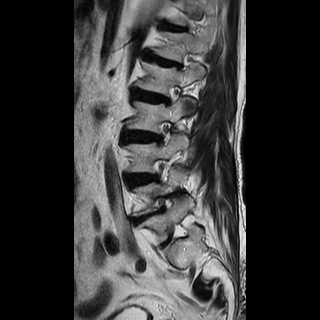RFS0: (151, 113, 179, 152)
